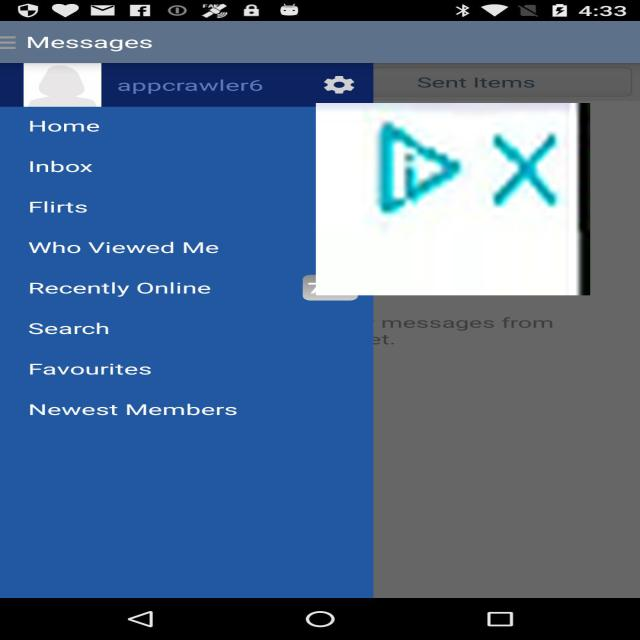sneaking: (316, 103, 590, 295)
